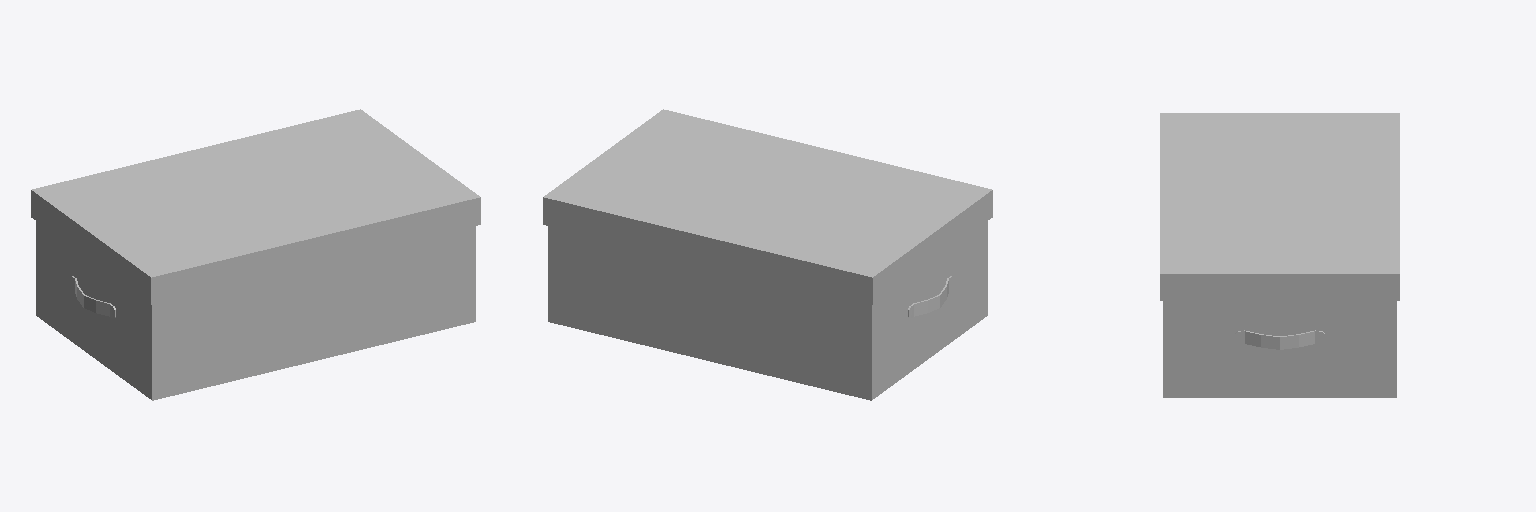
File: box_big.obj
3 views of the same model, side by side, from view 1: azimuth 30°, elevation 25°; view 2: azimuth 150°, elevation 25°; view 3: azimuth 270°, elevation 25° (orthographic).
Visible parts, largest first — view 1: SM_BoxBig; view 2: SM_BoxBig; view 3: SM_BoxBig.
Boxes of the visible parts, x1=… form: SM_BoxBig: x1=31, y1=109, x2=480, y2=400; SM_BoxBig: x1=543, y1=109, x2=992, y2=400; SM_BoxBig: x1=1160, y1=113, x2=1399, y2=397.
Bounding box in the file's own units: 0.4257 × 0.1476 × 0.2571.